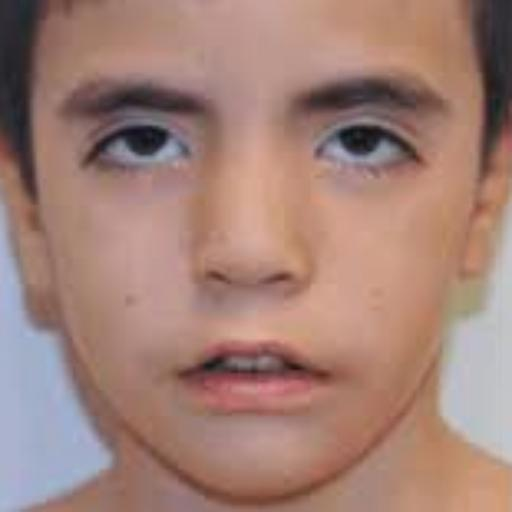left_eye: (311, 123, 424, 175)
left_lip_corner: (295, 354, 339, 392)
right_eye: (82, 122, 195, 173)
right_lip_corner: (159, 360, 204, 392)
